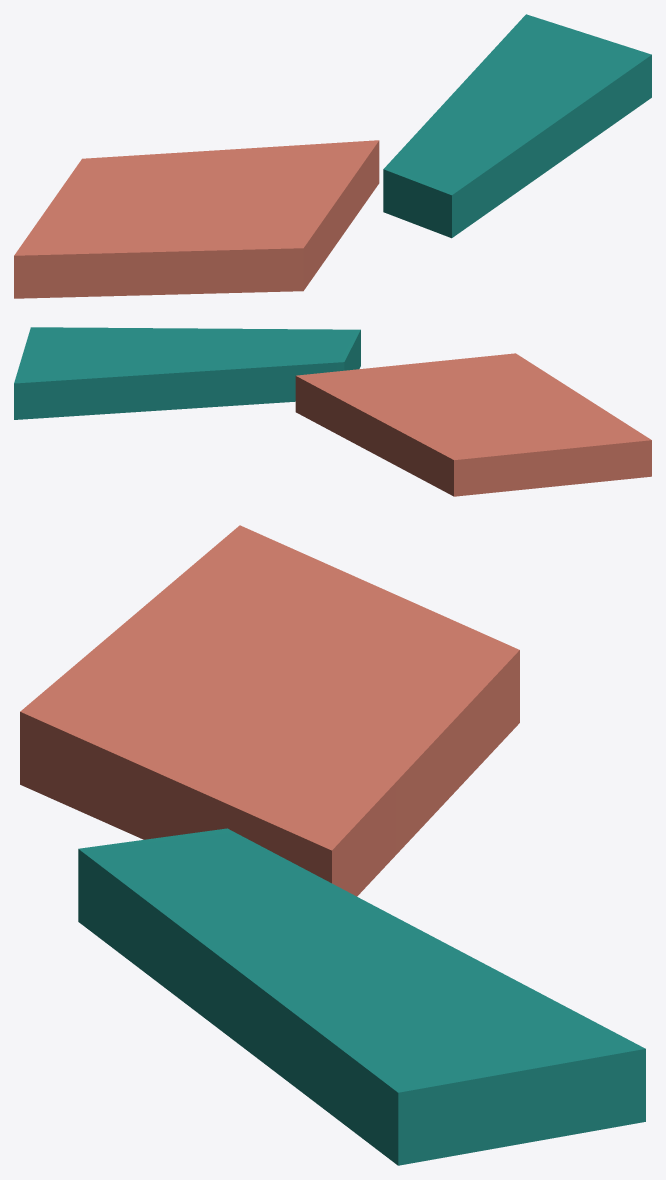
Rendered from aph_confetti003.glb.
3 views of the same model, one above another, from view 1: azimuth 30°, elevation 25°; view 2: azimuth 150°, elevation 25°; view 3: azimuth 270°, elevation 25° (orthographic). The views are drawn at different scales.
Visible parts, largest first — view 1: Art_Confetti_01; view 2: Art_Confetti_01; view 3: Art_Confetti_01.
Boxes of the visible parts, x1,y1,x2,y2 form: Art_Confetti_01: (14,14,651,298); Art_Confetti_01: (14,327,651,496); Art_Confetti_01: (20,525,645,1165).
Size of the model in its own units: 2.3 by 0.1382 by 1.07.
1 material, 1 textured.
